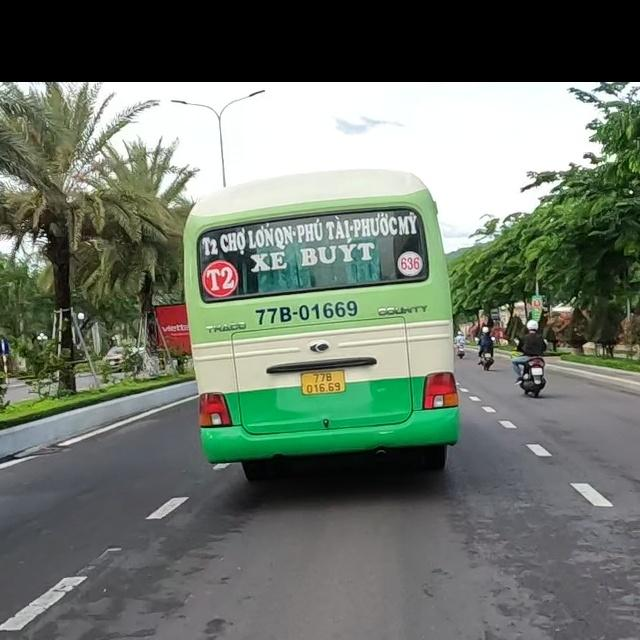license-plate: (300, 370, 346, 396)
